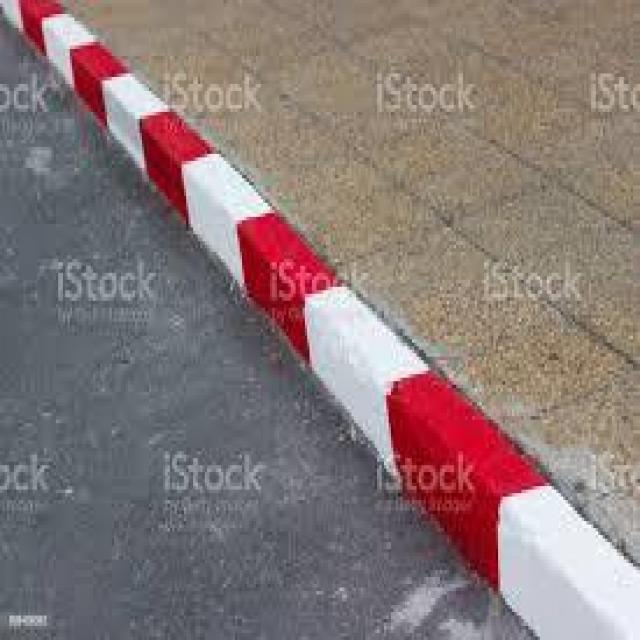bump: (278, 262, 572, 564), (32, 19, 208, 200)
